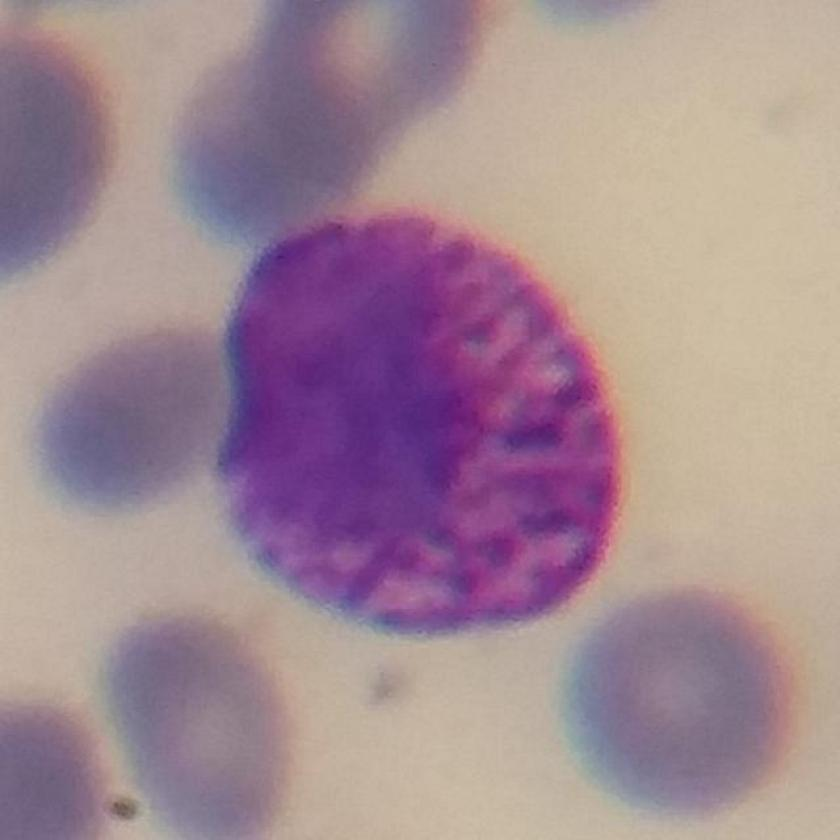basophil: (219, 212, 631, 640)
